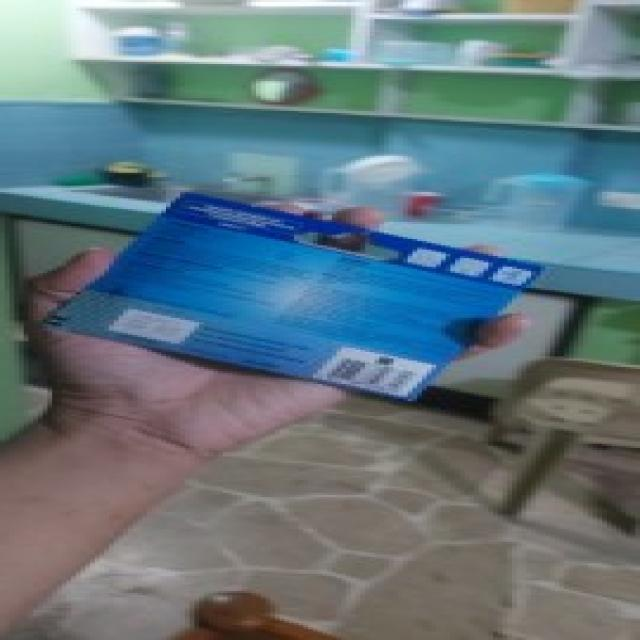Cacat: (53, 184, 550, 405)
